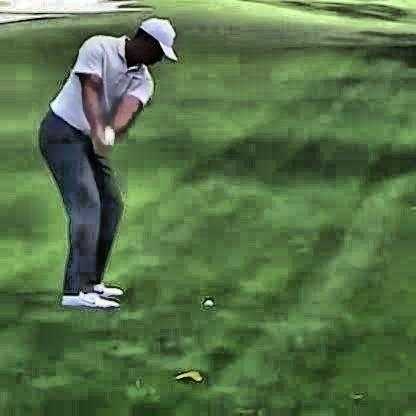golfball: (202, 294, 212, 305)
